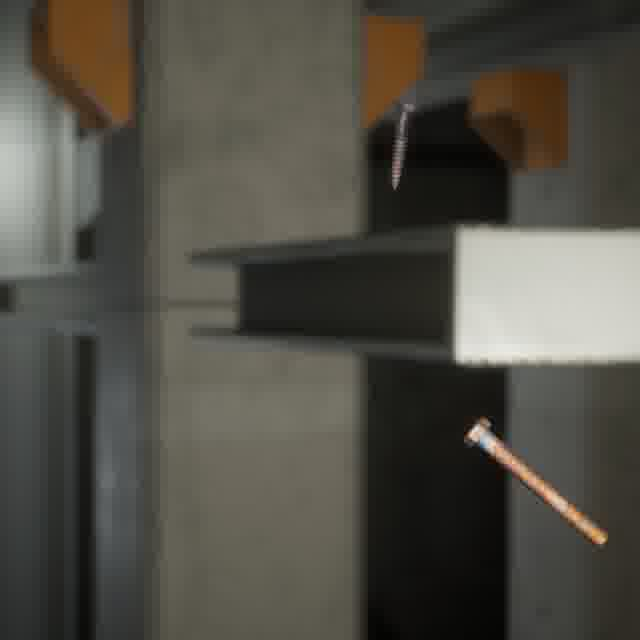bolt: (458, 413, 612, 551), (386, 91, 421, 194)
